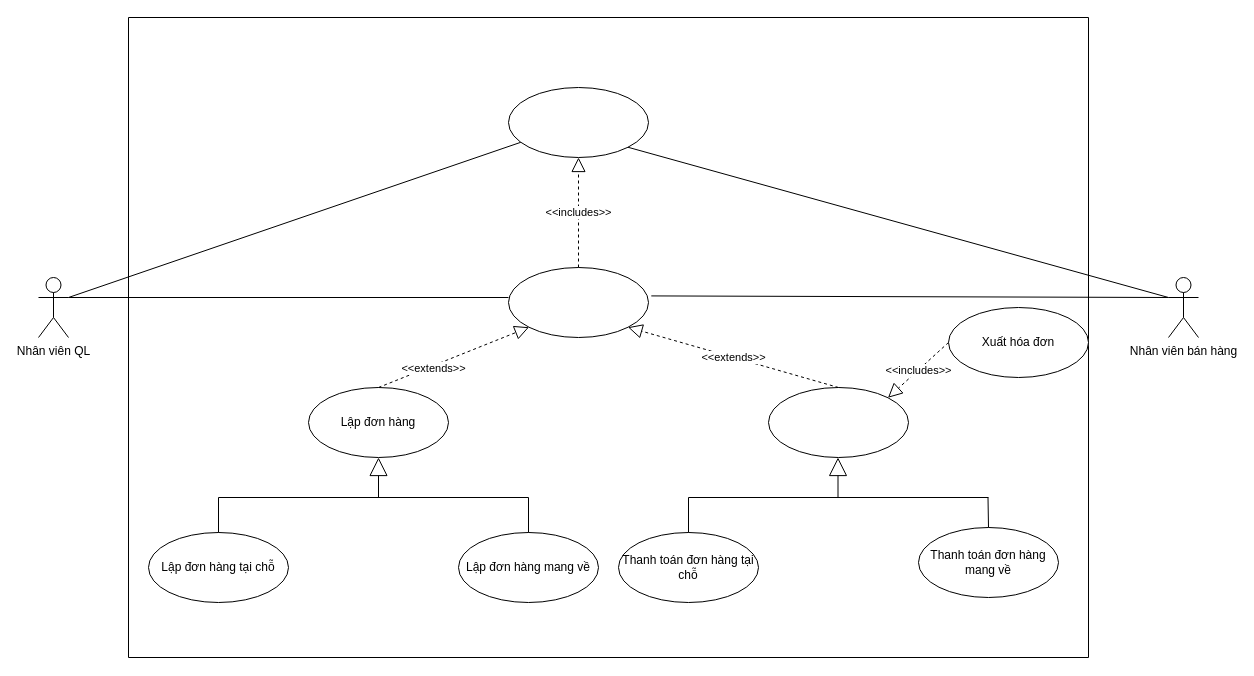
Some shapes in this 1254 by 676 pixel diagram are drawn without their labels. Each missing label, with the centre of its shape:
"Bán hàng" goes at point (578, 302).
"Thanh toán đơn hàng" goes at point (838, 422).
"Đăng nhập" goes at point (578, 122).
